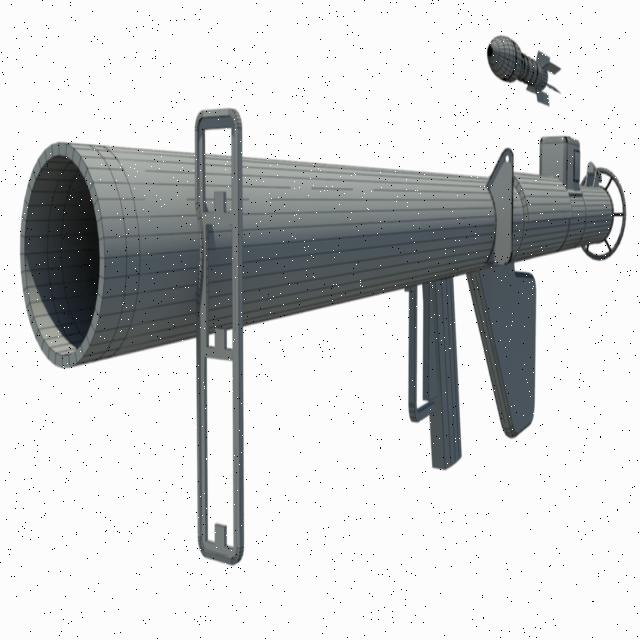bazooka: (16, 101, 634, 580)
